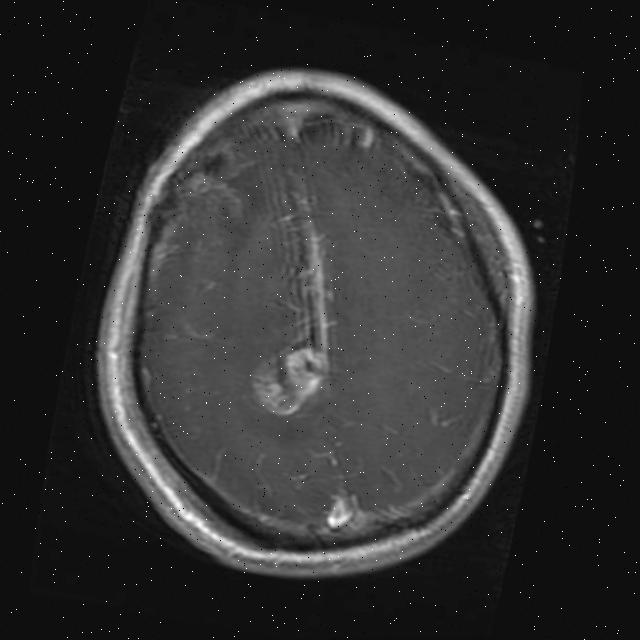Glioma: (243, 332, 334, 422)
